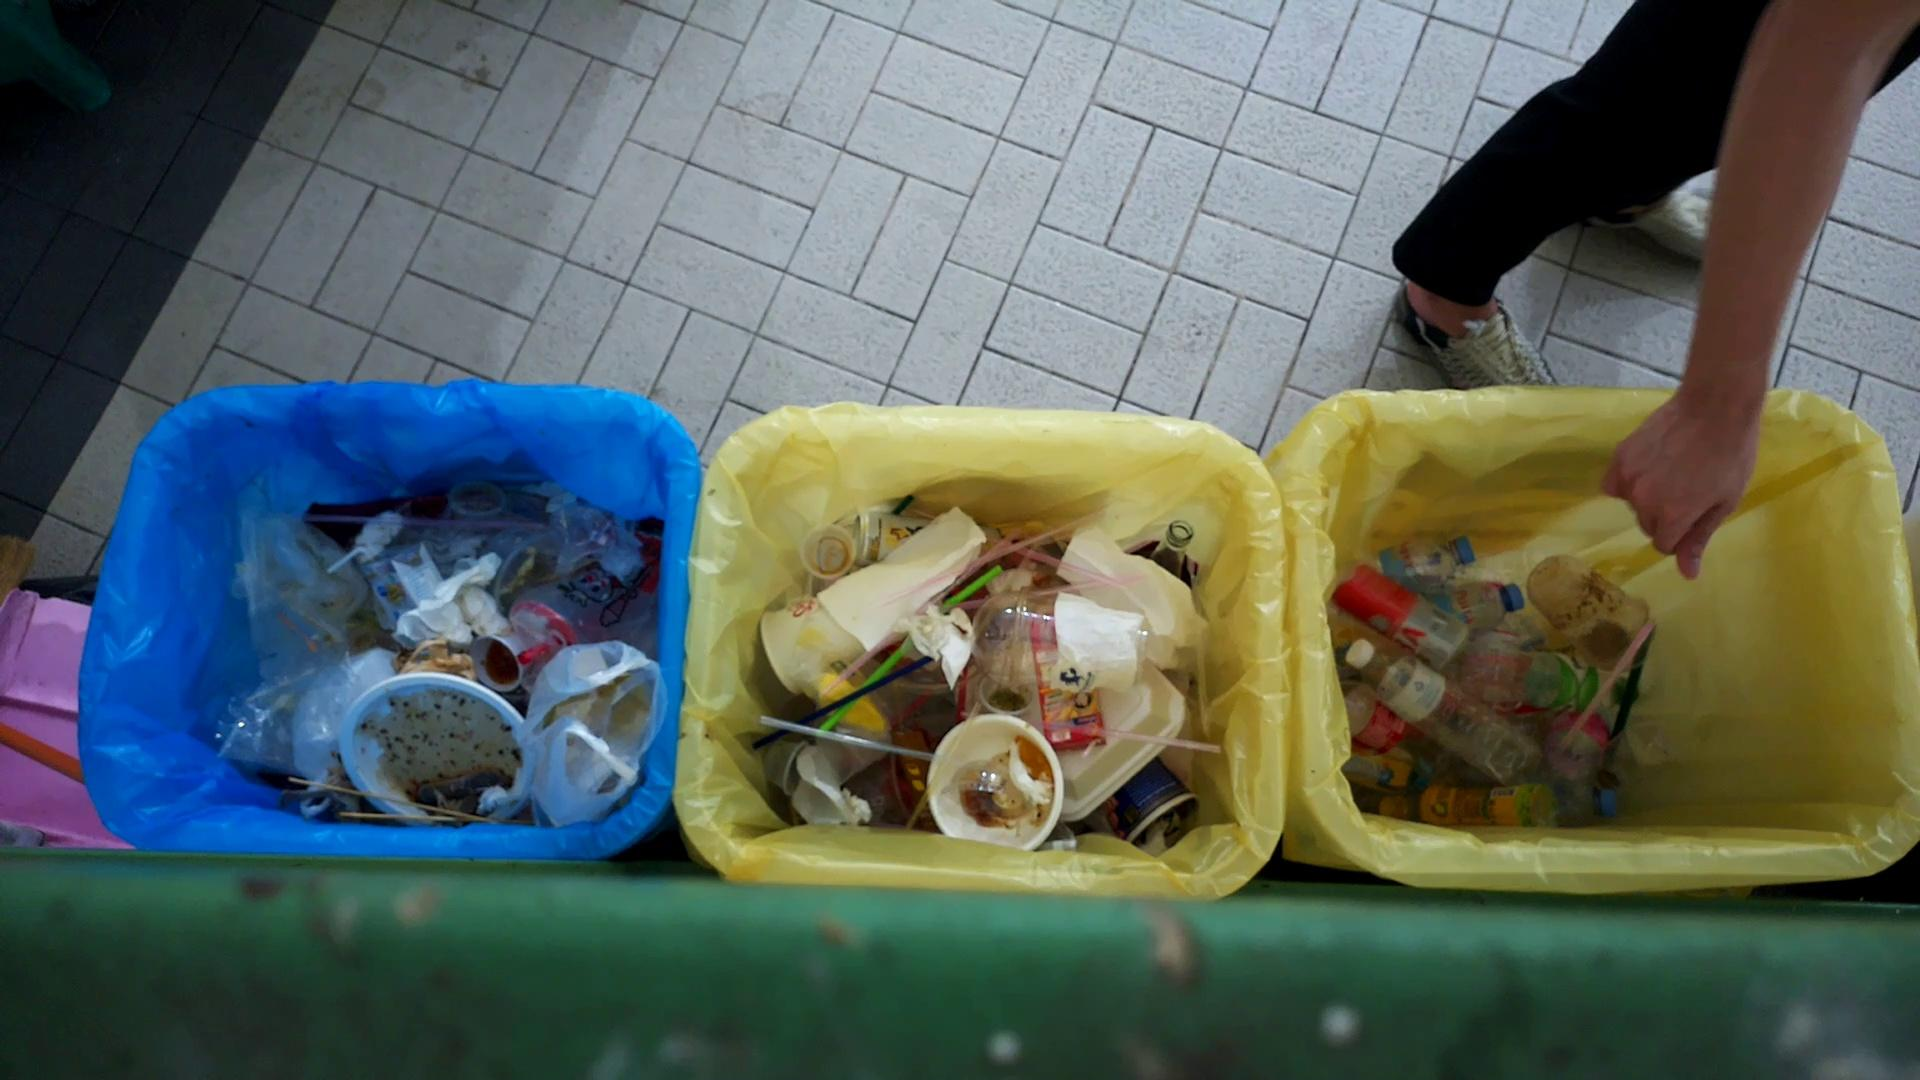can: (1328, 566, 1472, 669)
dirty food container: (338, 673, 534, 827)
food container: (928, 713, 1064, 852), (460, 628, 525, 691), (802, 521, 860, 575)
plastic bottle: (1331, 629, 1519, 761), (1386, 778, 1555, 822)
plastic cup: (965, 587, 1149, 691), (1524, 556, 1656, 669), (938, 758, 1038, 831)
sticks: (284, 774, 487, 824), (334, 814, 537, 824)
straw: (814, 529, 1022, 694), (815, 559, 996, 738), (870, 508, 1100, 634), (762, 641, 952, 745), (1548, 621, 1660, 757), (757, 713, 1000, 775), (905, 700, 978, 835), (919, 572, 1146, 613), (1014, 720, 1222, 760)
tissue paper: (389, 551, 508, 653), (1044, 589, 1149, 691), (894, 601, 973, 700), (996, 731, 1048, 800)
